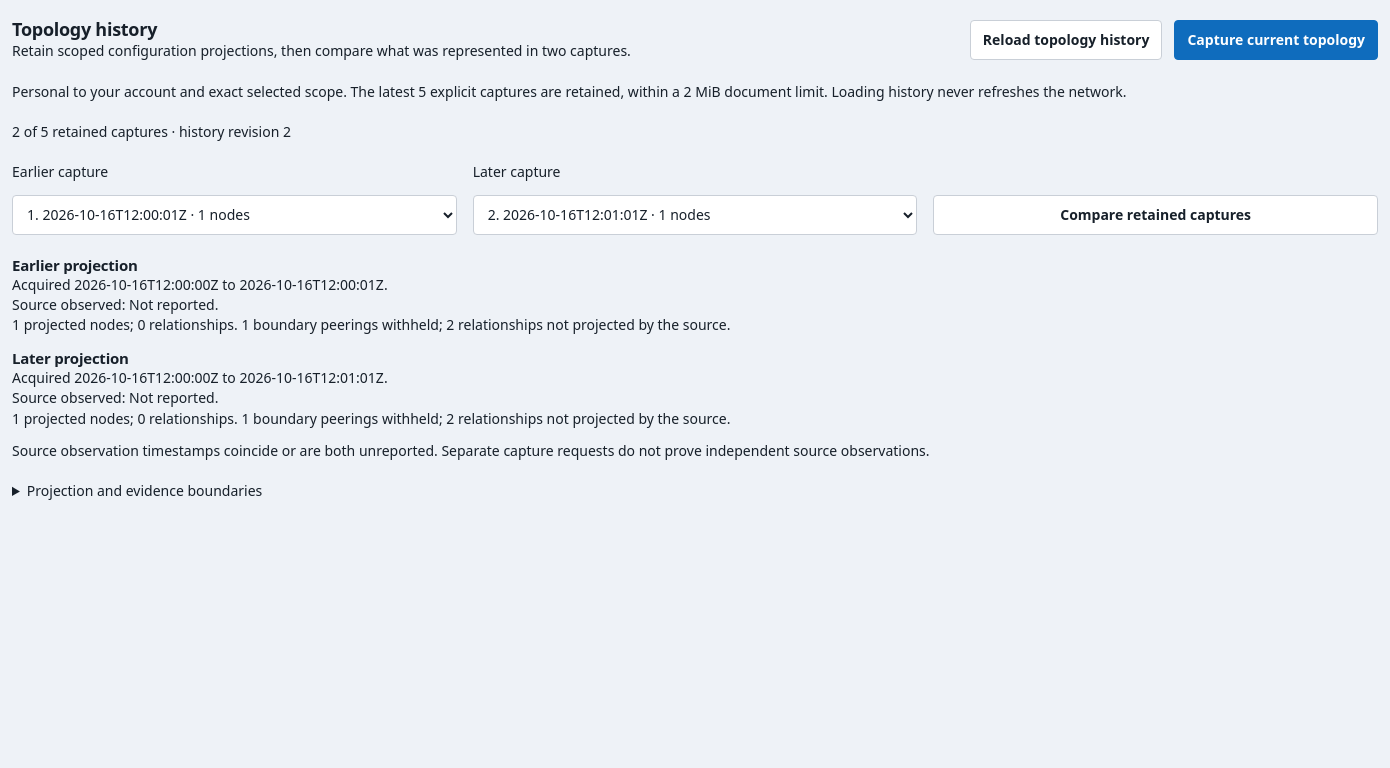
Test: Retained topology history › keeps difference tables keyboard-scrollable
Expected: the text "2 of 5 retained captures · history revision 2" is shown, x1=12 y1=122 x2=291 y2=141
Click the button "Compare retained captures": (1156, 215) x1=933 y1=195 x2=1378 y2=235
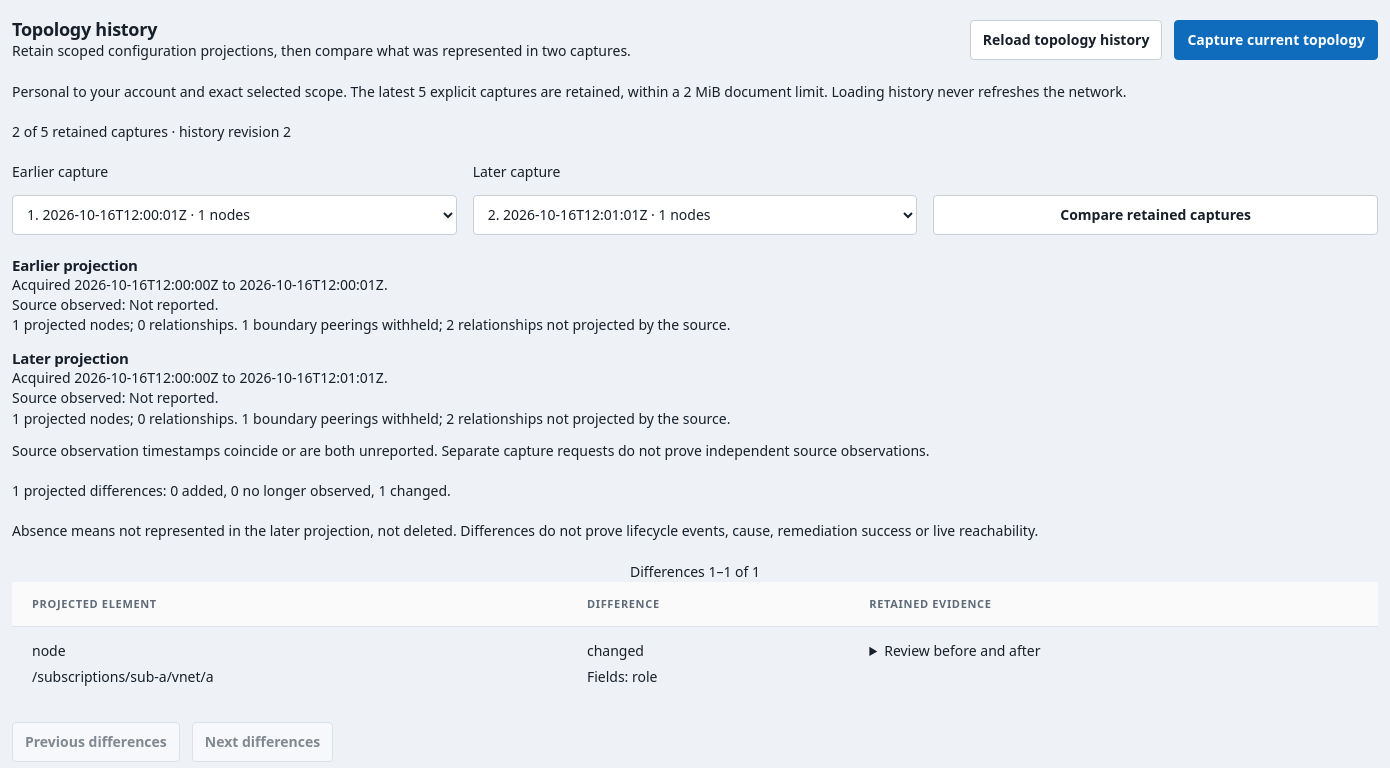
Result: the text "/subscriptions/sub-a/vnet/a" is shown 3 times
